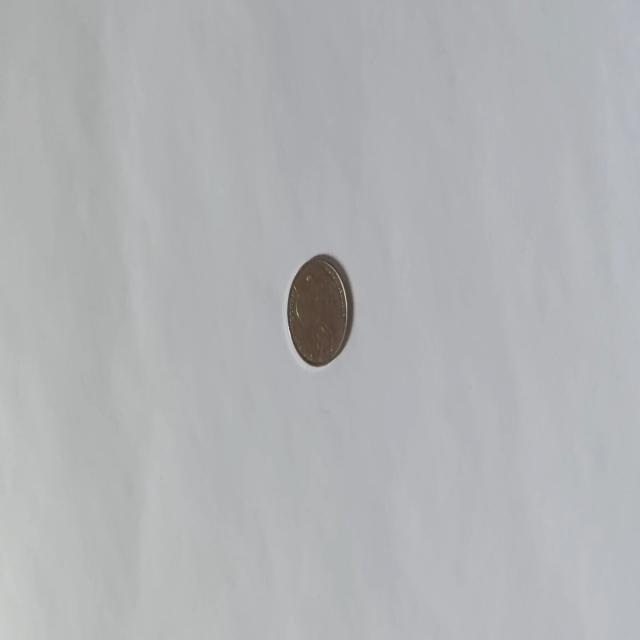seribu rupiah koin: (286, 251, 350, 369)
